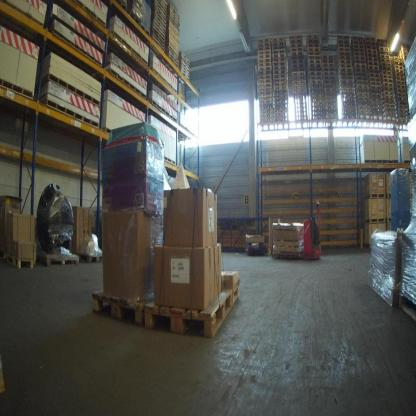pallet: (143, 279, 234, 340), (92, 282, 156, 327), (35, 250, 79, 269), (396, 288, 416, 324), (80, 249, 103, 266), (271, 252, 304, 261), (128, 9, 140, 26), (139, 22, 151, 38), (163, 156, 176, 168), (117, 0, 128, 14), (257, 87, 273, 94), (257, 44, 271, 52), (259, 117, 273, 124), (259, 95, 273, 102), (258, 82, 272, 89), (257, 53, 271, 60), (308, 83, 324, 89), (258, 49, 271, 56), (322, 62, 335, 69), (369, 88, 382, 95), (258, 92, 273, 98), (257, 74, 272, 80), (257, 69, 272, 75), (272, 60, 287, 66), (292, 84, 307, 90), (292, 80, 307, 86), (291, 71, 306, 77), (291, 67, 306, 73), (308, 75, 323, 81), (308, 70, 323, 76), (307, 59, 322, 65), (306, 46, 321, 52), (306, 38, 321, 44), (340, 88, 355, 94), (339, 79, 354, 85), (354, 76, 369, 82), (259, 113, 273, 119), (259, 108, 273, 114), (259, 100, 273, 106), (258, 61, 272, 67), (257, 57, 271, 63), (273, 85, 287, 91), (273, 81, 287, 87), (273, 73, 287, 79), (273, 69, 287, 75), (273, 64, 287, 70), (272, 56, 286, 62), (257, 38, 271, 44), (272, 49, 286, 55), (308, 66, 322, 72), (307, 55, 321, 61), (325, 114, 339, 120), (324, 87, 338, 93), (324, 83, 338, 89), (322, 66, 336, 72), (340, 83, 354, 89), (337, 47, 351, 53), (336, 35, 350, 41), (353, 63, 367, 69), (382, 81, 394, 88), (380, 65, 392, 72), (397, 104, 409, 111), (308, 80, 324, 85), (337, 59, 353, 64), (337, 55, 353, 60), (354, 88, 370, 93), (272, 45, 285, 51), (272, 37, 285, 43), (325, 106, 338, 112), (325, 101, 338, 107), (323, 70, 336, 76), (322, 59, 335, 65), (368, 80, 381, 86), (382, 94, 395, 100), (380, 70, 393, 76), (351, 36, 364, 42), (382, 99, 395, 105), (393, 60, 404, 67), (291, 63, 306, 68), (307, 63, 322, 68), (339, 71, 354, 76), (338, 67, 353, 72), (338, 64, 353, 69), (337, 51, 352, 56), (336, 43, 351, 48), (355, 93, 370, 98), (258, 42, 270, 48), (368, 72, 380, 78), (367, 64, 379, 70), (367, 60, 379, 66), (382, 86, 394, 92), (381, 78, 393, 84), (381, 74, 393, 80), (366, 52, 378, 58), (366, 48, 378, 54), (364, 36, 376, 42), (397, 108, 409, 114), (397, 113, 409, 119), (369, 84, 381, 90), (259, 105, 273, 110), (258, 79, 272, 84), (258, 66, 272, 71), (273, 78, 287, 83), (272, 53, 286, 58), (292, 76, 306, 81), (291, 59, 305, 64), (290, 47, 304, 52), (289, 39, 303, 44), (306, 43, 320, 48), (325, 110, 339, 115), (323, 75, 337, 80), (336, 40, 350, 45), (355, 84, 369, 89), (355, 80, 369, 85), (354, 68, 368, 73), (353, 59, 367, 64), (352, 48, 366, 53), (351, 44, 365, 49), (351, 40, 365, 45), (396, 84, 407, 90), (394, 68, 405, 74), (394, 64, 405, 70), (378, 46, 389, 52), (272, 41, 285, 46), (291, 55, 304, 60), (291, 51, 304, 56), (290, 43, 303, 48), (307, 51, 320, 56), (325, 97, 338, 102), (325, 92, 338, 97), (324, 79, 337, 84), (322, 55, 335, 60), (382, 91, 395, 96), (353, 55, 366, 60), (353, 51, 366, 56), (307, 34, 320, 39), (338, 76, 354, 80), (368, 69, 380, 74), (380, 62, 392, 67), (397, 92, 407, 98), (397, 88, 407, 94), (396, 80, 406, 86), (395, 76, 405, 82), (395, 72, 405, 78), (393, 56, 403, 62), (367, 56, 379, 61), (366, 45, 378, 50), (379, 58, 391, 63), (379, 54, 391, 59), (289, 36, 303, 40), (354, 72, 368, 76), (397, 97, 408, 102), (379, 50, 390, 55), (369, 77, 381, 81), (365, 41, 377, 45)
pallet_truck: (302, 196, 326, 258)
